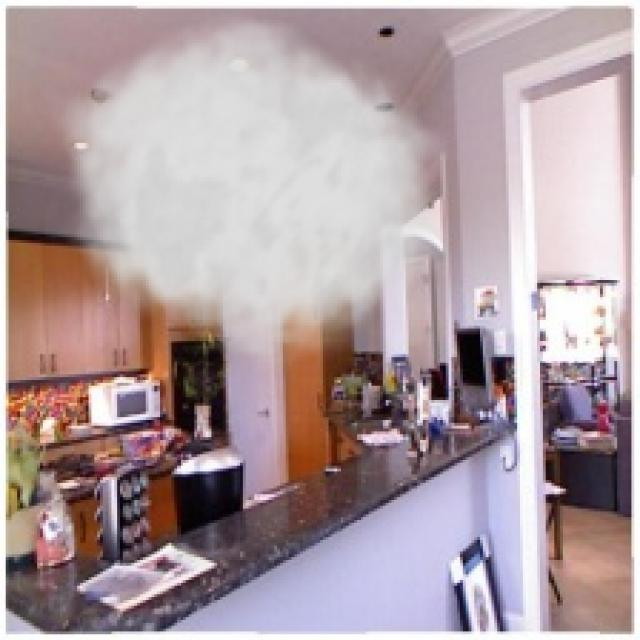Smoke: (46, 6, 452, 374)
